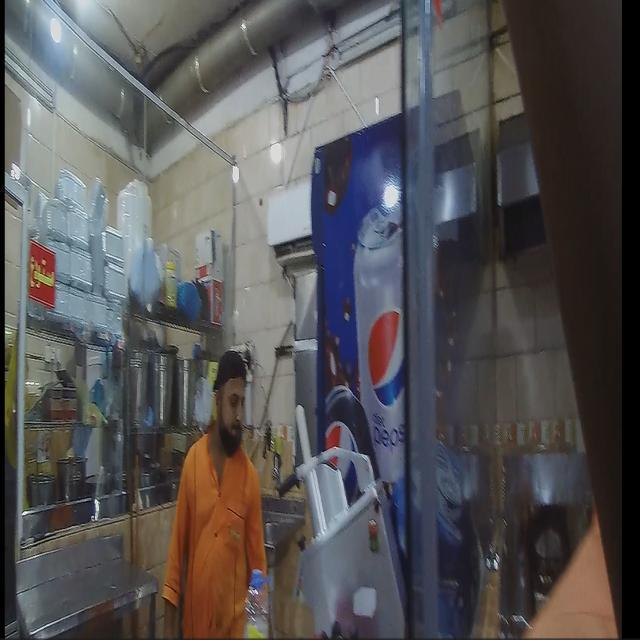face_no_mask: (215, 381, 245, 458)
